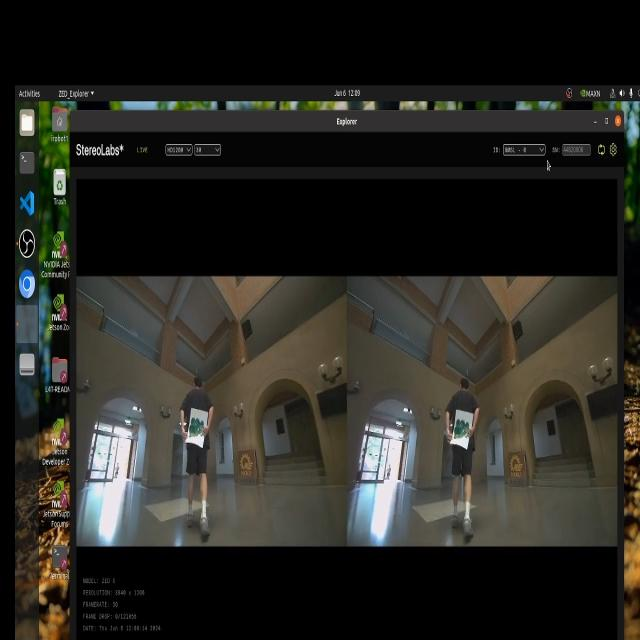green: (187, 412, 212, 449), (455, 413, 471, 453)
